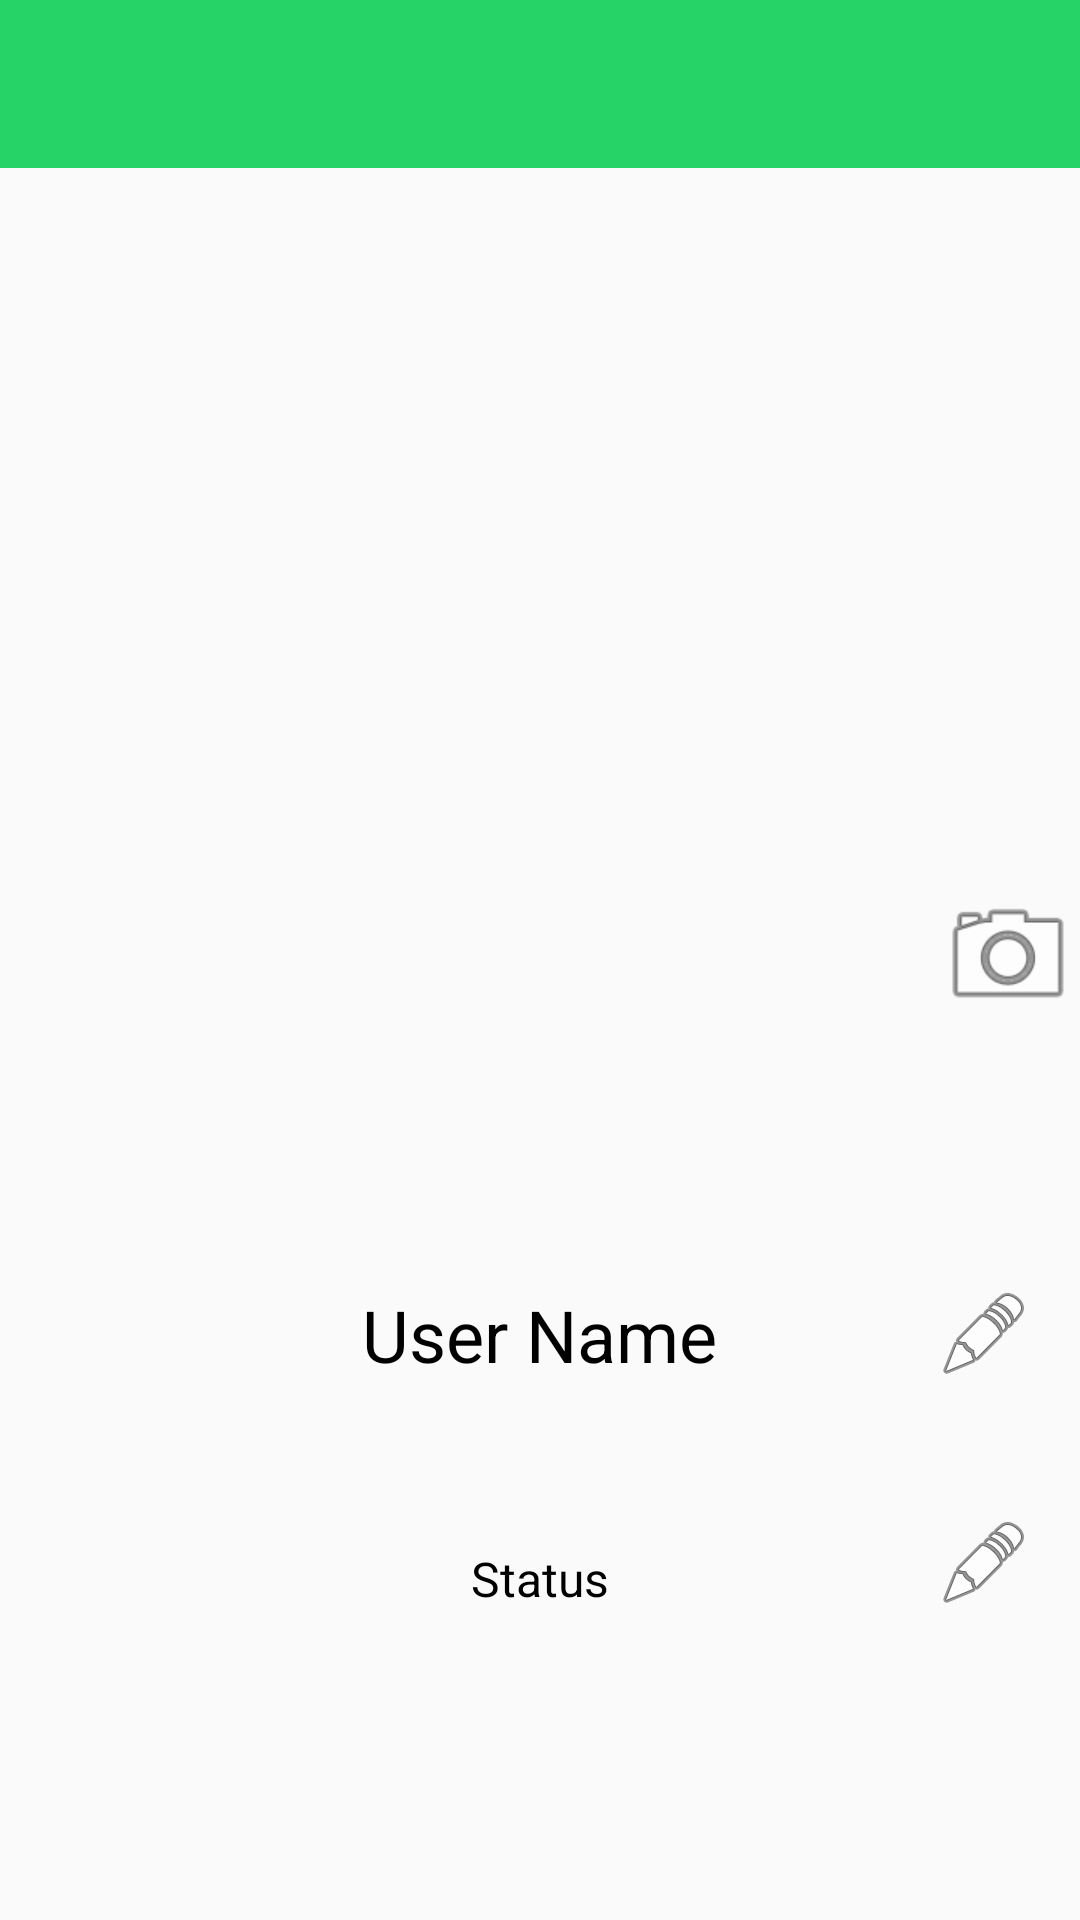

Screen size 1080x1920. Icon name, then its box in pixels as (x1, y1, x2, y2):
camera: (952, 909, 1064, 998)
edit: (943, 1293, 1024, 1374), (943, 1522, 1024, 1603)
